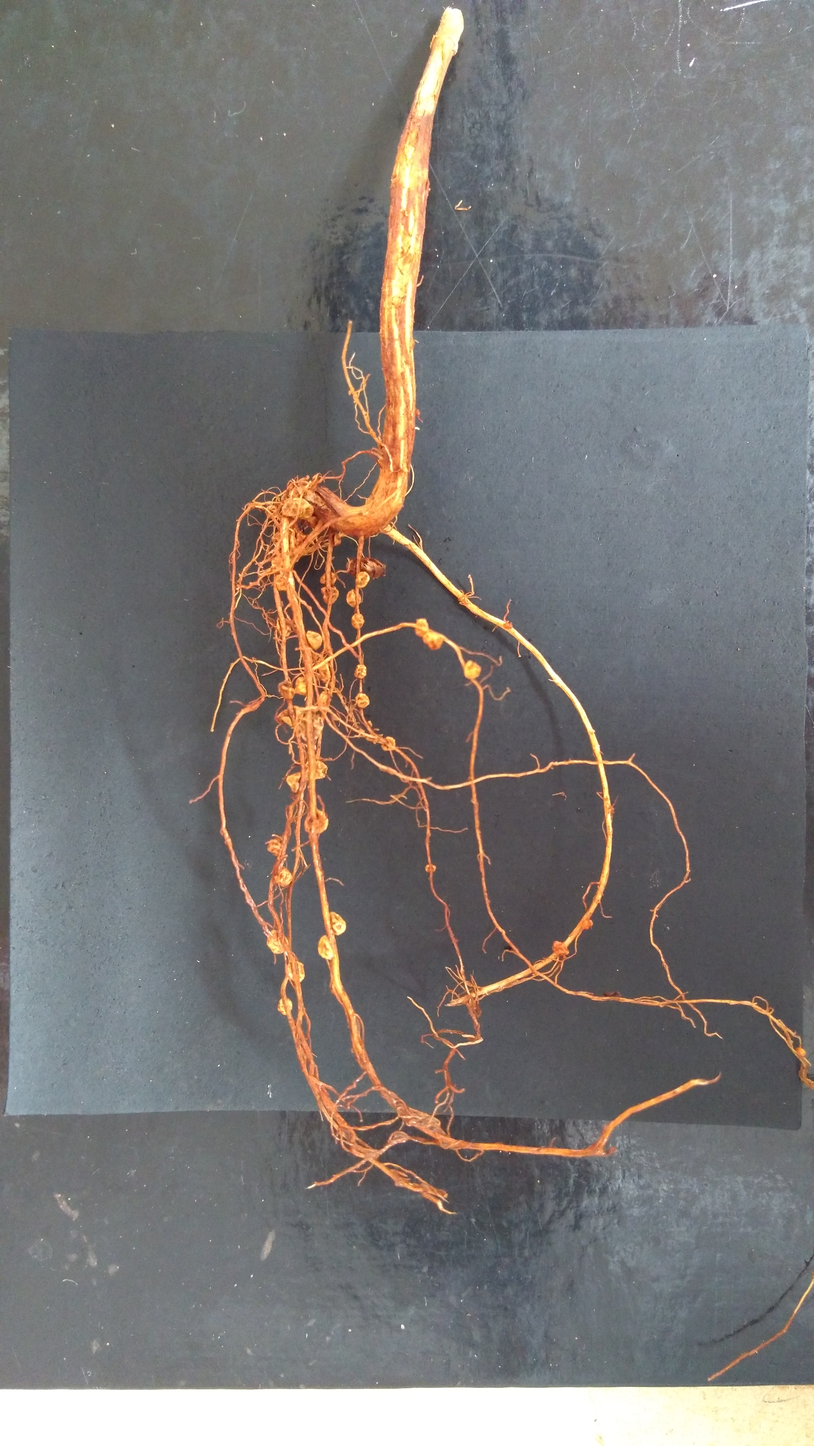nodule: (345, 557, 386, 581), (282, 497, 314, 519), (303, 807, 329, 834), (299, 712, 324, 740), (277, 705, 306, 727), (267, 930, 288, 953), (421, 631, 445, 651), (329, 910, 347, 936), (306, 760, 328, 781), (317, 934, 334, 961), (286, 960, 305, 983), (273, 866, 293, 887), (316, 658, 332, 683), (463, 659, 482, 680), (277, 680, 296, 700), (289, 532, 303, 559), (267, 835, 284, 857), (320, 585, 339, 604), (275, 571, 293, 591), (285, 771, 301, 793), (289, 481, 307, 499), (551, 940, 570, 957), (276, 617, 292, 637), (345, 589, 362, 607), (306, 631, 322, 650), (415, 618, 430, 638), (303, 513, 319, 530), (277, 997, 292, 1015), (295, 676, 308, 696), (355, 692, 370, 709), (381, 735, 396, 751), (320, 571, 337, 585), (356, 571, 370, 588), (319, 690, 331, 709), (264, 505, 279, 520), (351, 613, 365, 629), (272, 531, 284, 549), (292, 546, 306, 560), (329, 531, 341, 546), (295, 530, 306, 545), (581, 918, 593, 930), (795, 1046, 807, 1058), (271, 555, 282, 567), (425, 864, 436, 873), (503, 622, 513, 630), (401, 466, 409, 473), (358, 727, 365, 734), (367, 720, 372, 729), (415, 407, 420, 416), (279, 599, 284, 607)
